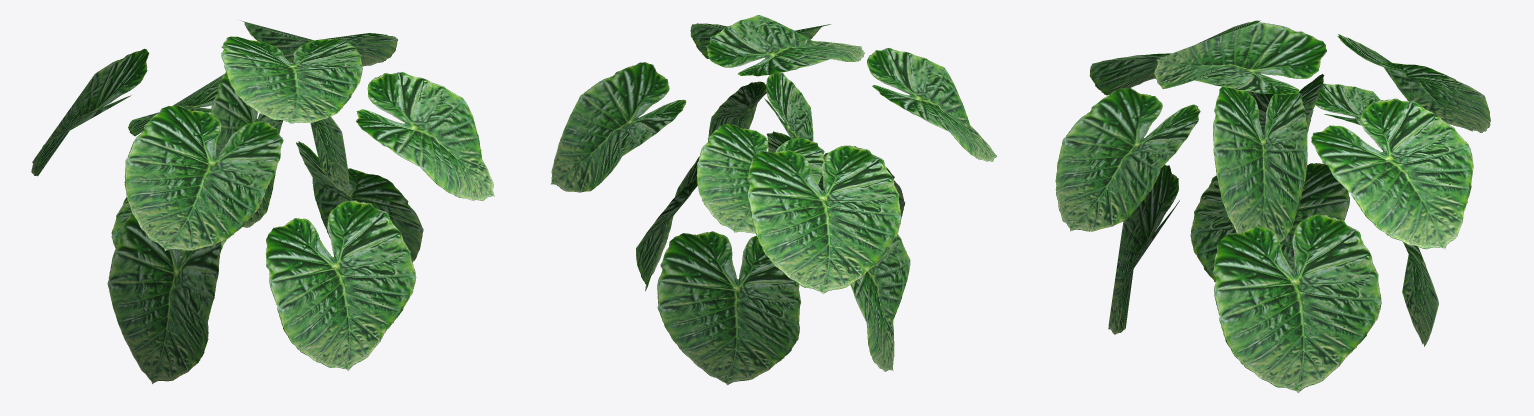
Rendered from ElephantEar.FBX.
The picture shows the model from 3 angles, left to right: view 1: azimuth 30°, elevation 25°; view 2: azimuth 150°, elevation 25°; view 3: azimuth 270°, elevation 25°; orthographic projection. The views are drawn at different scales.
Parts seen in each view (by area): view 1: ElephantEar; view 2: ElephantEar; view 3: ElephantEar.
Part boxes in pixels (bbox=[...]): ElephantEar: bbox=[31, 20, 494, 383]; ElephantEar: bbox=[551, 15, 997, 385]; ElephantEar: bbox=[1055, 20, 1490, 392].
Size of the model in its own units: 3.72 by 2.78 by 3.8.
